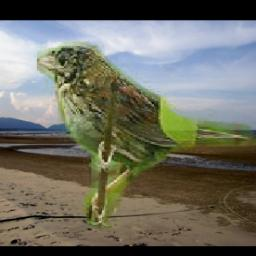Sparrow: (37, 42, 256, 230)
